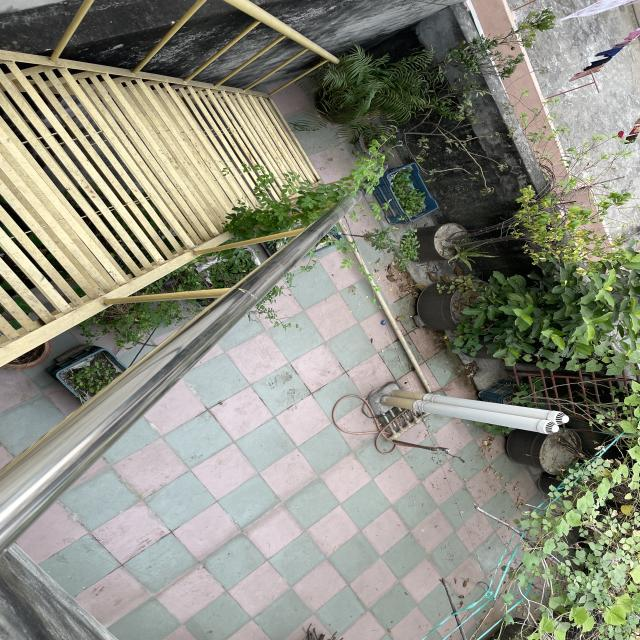Breeding Place: (507, 421, 585, 474), (421, 283, 489, 336), (412, 218, 483, 268), (383, 166, 441, 222), (69, 356, 123, 414)
